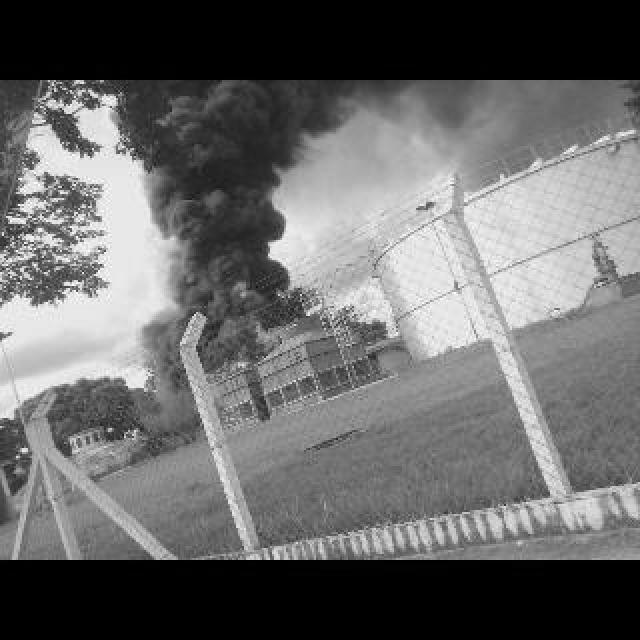Fire: (202, 278, 284, 388)
Smoke: (106, 82, 338, 320)
